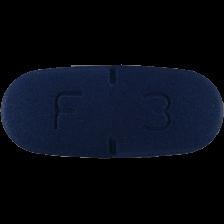57237-043: (0, 0, 224, 224)
